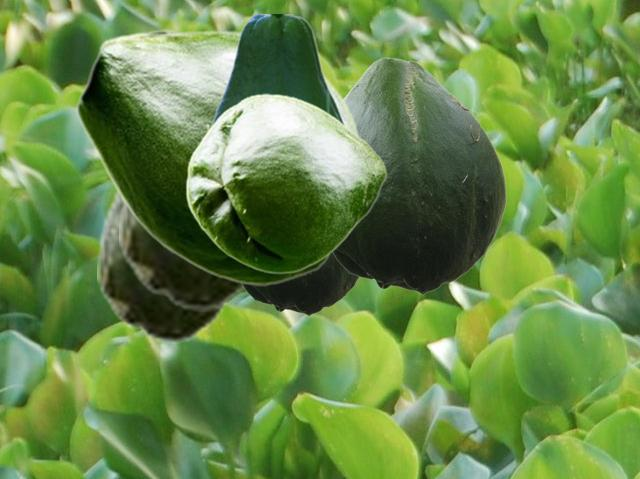sayote: (76, 29, 363, 285), (332, 57, 505, 294), (185, 93, 386, 273), (97, 184, 232, 343), (209, 14, 345, 125), (119, 200, 246, 311), (242, 254, 359, 315)
